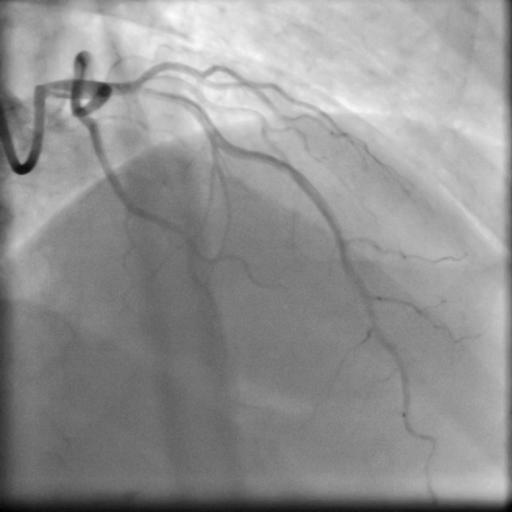Stenosis: (126, 81, 177, 104)
